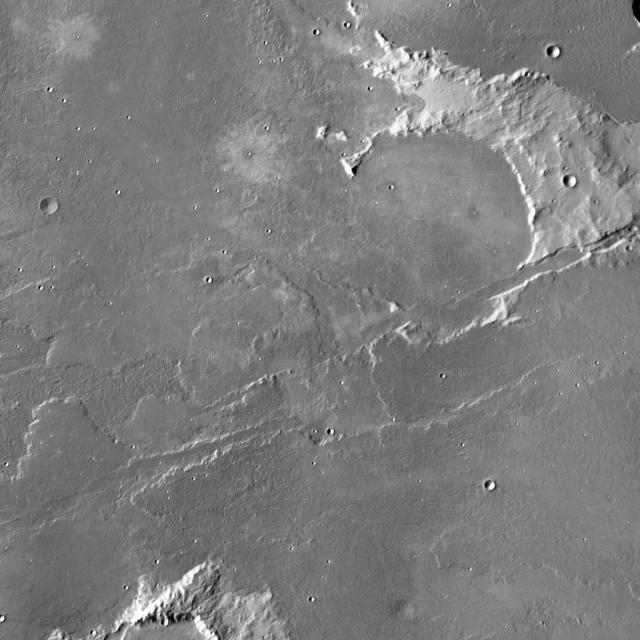crater: (331, 130, 545, 332), (401, 601, 422, 621), (47, 200, 65, 217), (569, 176, 584, 190), (556, 46, 568, 59), (491, 480, 502, 491), (4, 618, 12, 626), (327, 422, 334, 430), (167, 620, 175, 626), (632, 222, 636, 229)
